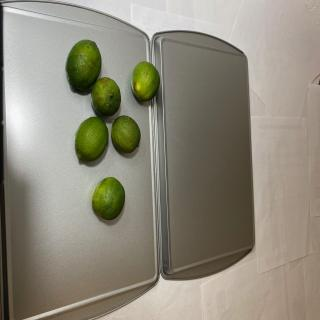Lemon: (65, 39, 102, 91), (74, 116, 109, 162), (92, 177, 125, 220), (91, 76, 121, 116), (111, 115, 141, 154), (131, 61, 160, 101)
